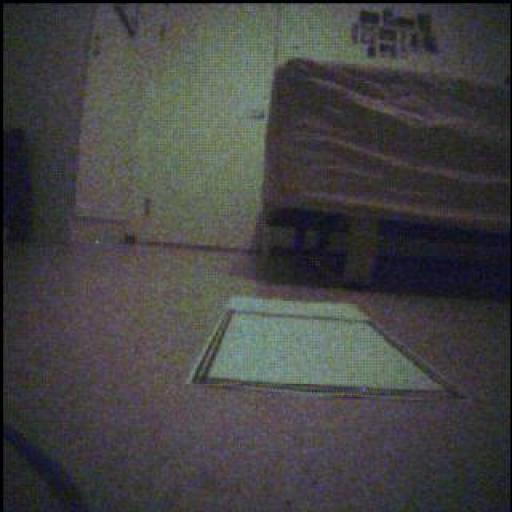pad: (192, 299, 461, 398)
